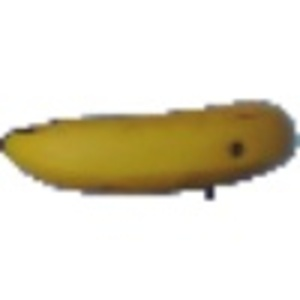banana: (1, 97, 295, 191)
